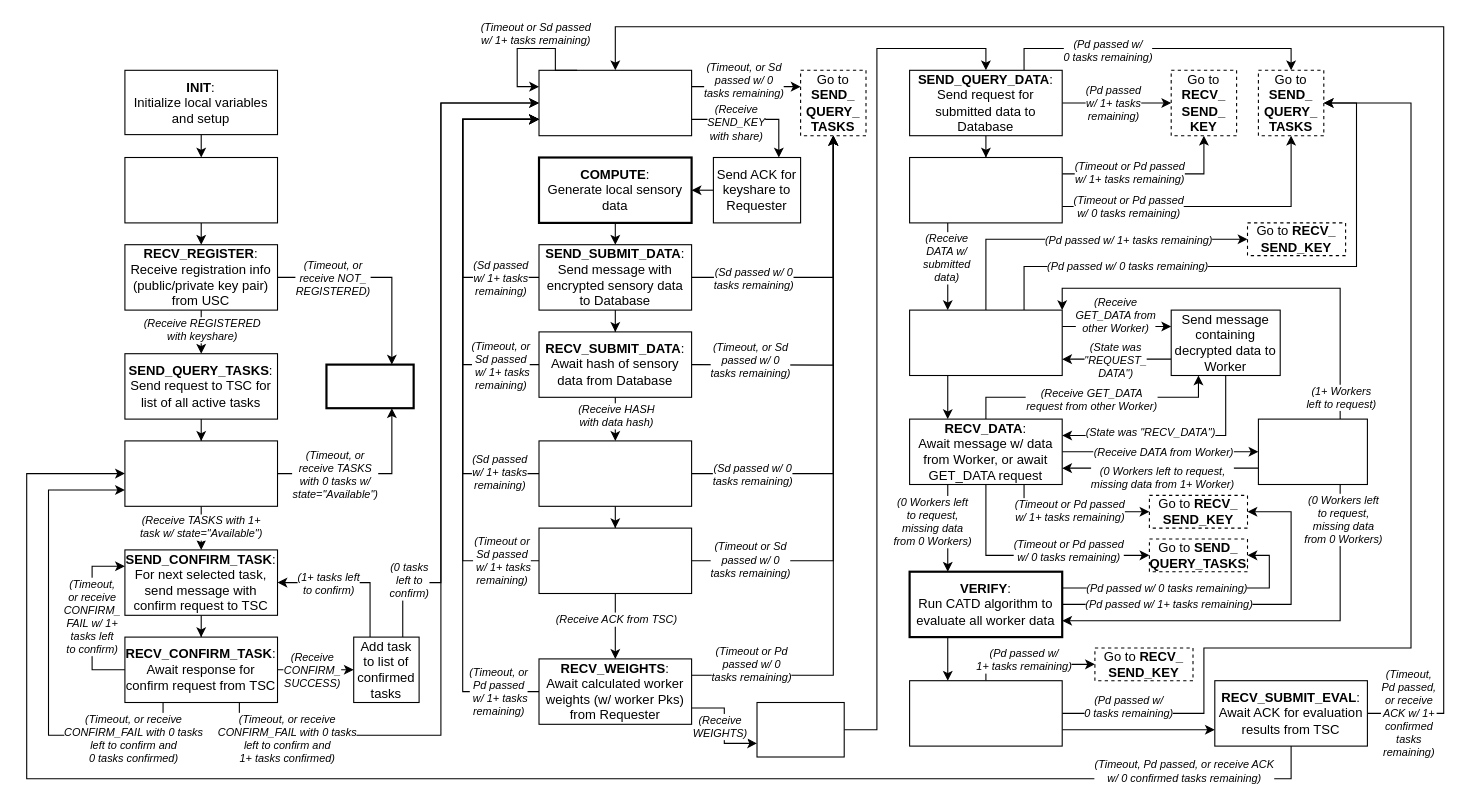
The diagram is 1472 pixels wide and 807 high, and some of its shapes have lost their labels. The centre of each missing label's shape, as x and y in pixels:
"RECV_QUERY_DATA : Await submitted data from Database" goes at point 985,189.
"RECV_QUERY_TASKS : Await response for task request from TSC" goes at point 201,473.
"RECV_SEND_KEY : For next task, await keyshare from Requester" goes at point 615,102.
"RECV_SUBMIT_HASH : Await ACK for data hash from TSC" goes at point 615,560.
"REQUEST_DATA : For next worker, send request for decrypted data from Worker" goes at point 985,342.
"Send ACK for weights to Requester" goes at point 800,729.
"SEND_REGISTER: Send registration request to USC" goes at point 201,189.
"SEND_SUBMIT_EVAL : Send evaluation results to TSC" goes at point 985,713.
"SEND_SUBMIT_HASH : Send message with data hash to TSC" goes at point 615,473.
"Store data, add Worker to list of recipients" goes at point 1312,451.
"TERMINATED" goes at point 369,386.
